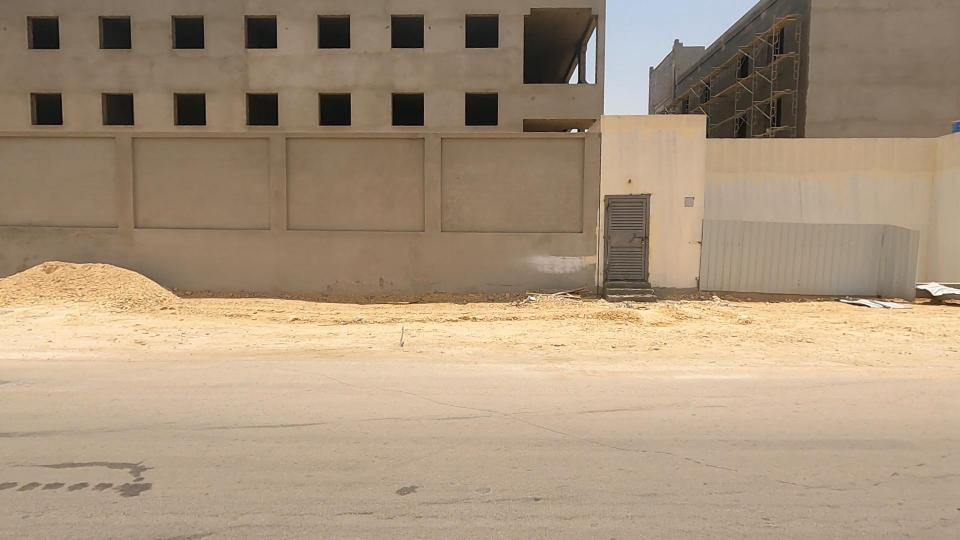GARBAGE: (805, 262, 917, 342), (876, 254, 960, 329)
SAND_ON_ROAD: (0, 216, 260, 363)
